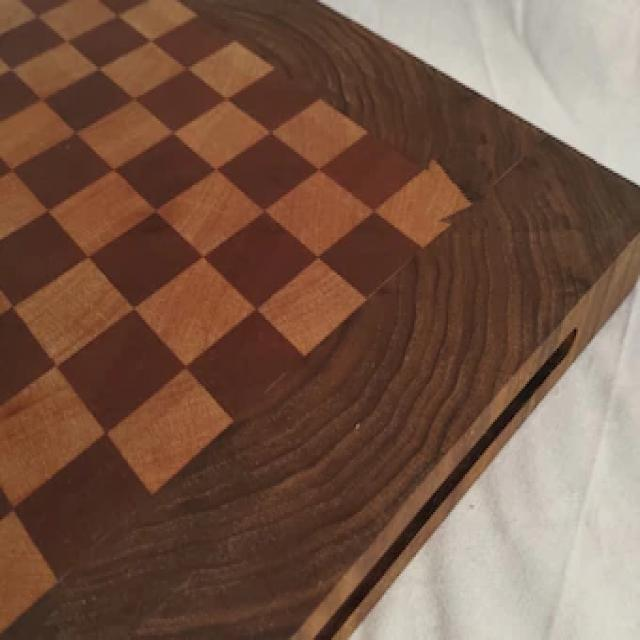chess-table-corners: (415, 157, 493, 233)
